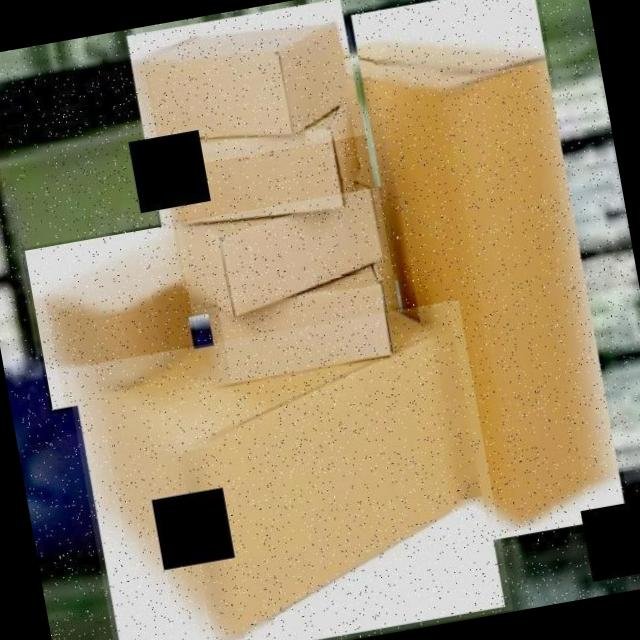box: (346, 0, 632, 557), (65, 299, 513, 640), (123, 0, 367, 173), (20, 221, 205, 414), (144, 102, 382, 245), (164, 186, 403, 320), (204, 273, 413, 400)
